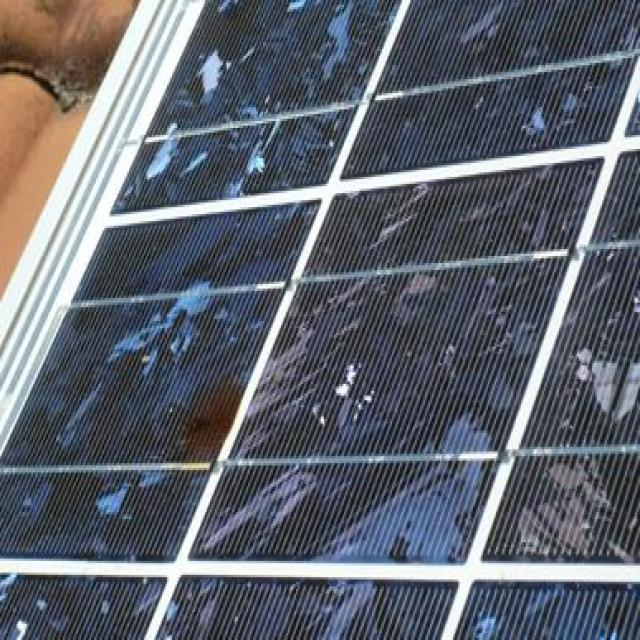Electrical-damage: (156, 370, 270, 483)
